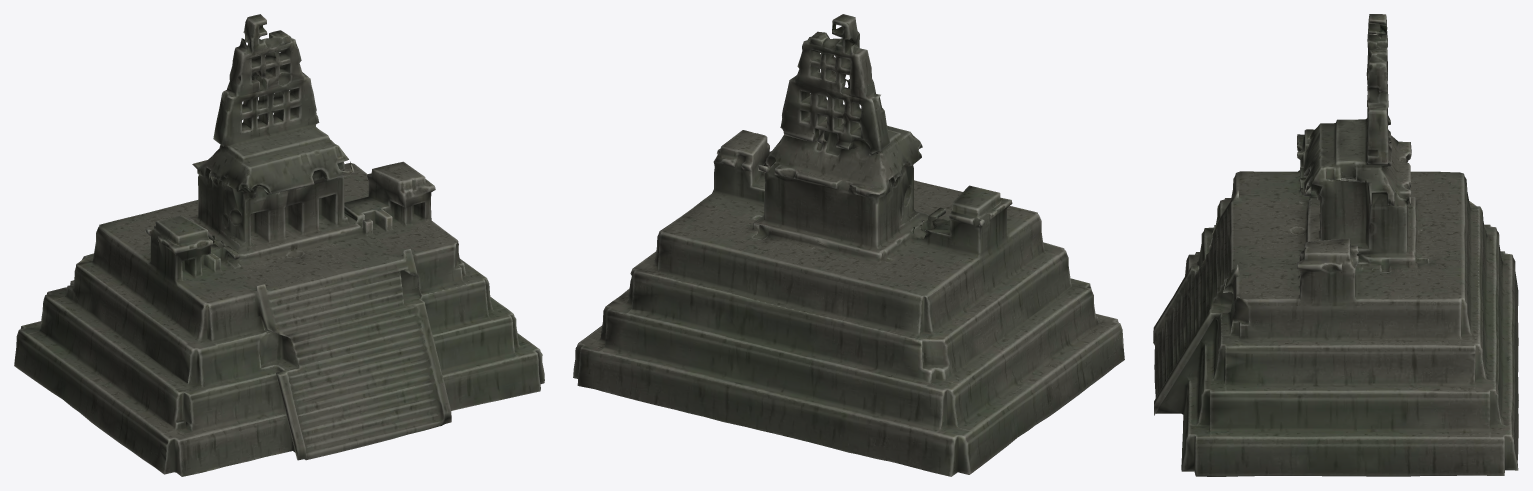
The model's file is acropolis-limestone.glb.
3 views of the same model, side by side, from view 1: azimuth 30°, elevation 25°; view 2: azimuth 150°, elevation 25°; view 3: azimuth 270°, elevation 25° (orthographic). The views are drawn at different scales.
Visible parts, largest first — view 1: maya_acropolis; view 2: maya_acropolis; view 3: maya_acropolis.
Boxes of the visible parts, x1,y1,x2,y2 form: maya_acropolis: (14,14,544,476); maya_acropolis: (573,14,1124,476); maya_acropolis: (1153,14,1518,476).
Bounding box in the file's own units: 1 × 0.8744 × 0.8051.
Materials: 1 (1 with a texture image).
